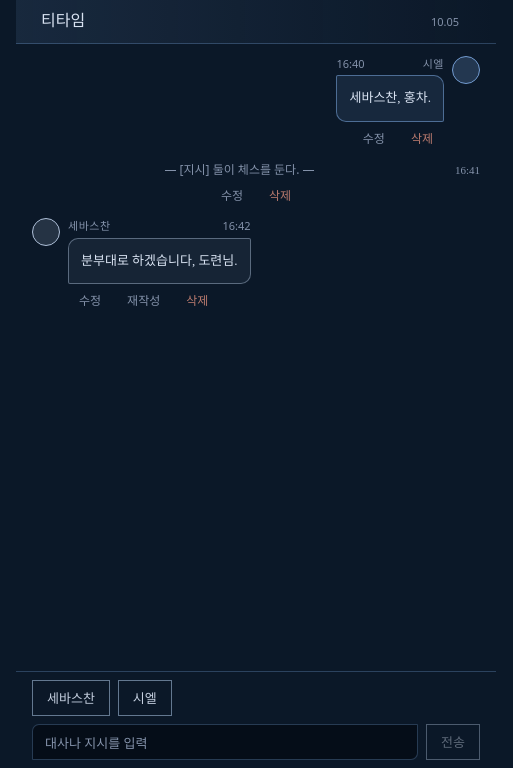
Test: 다른 쓰기 대기 중 생성 잠금 — 잠금 표 edit·delete·regenerate 행 (R-CHAT-005 · R-CHAT-007) › TC-CH-095: (a) 수정 저장 대기 중 → 캐릭터 버튼 2·「재시도」 disabled → 응답 뒤 활성
This screenshot has width=513, height=768.
Expected: the element named "대화 기록" is shown, x1=32 y1=56 x2=480 y2=316
Click the button with aria-label "시엘 대사 생성" at (145, 698), box x1=118 y1=680 x2=172 y2=716
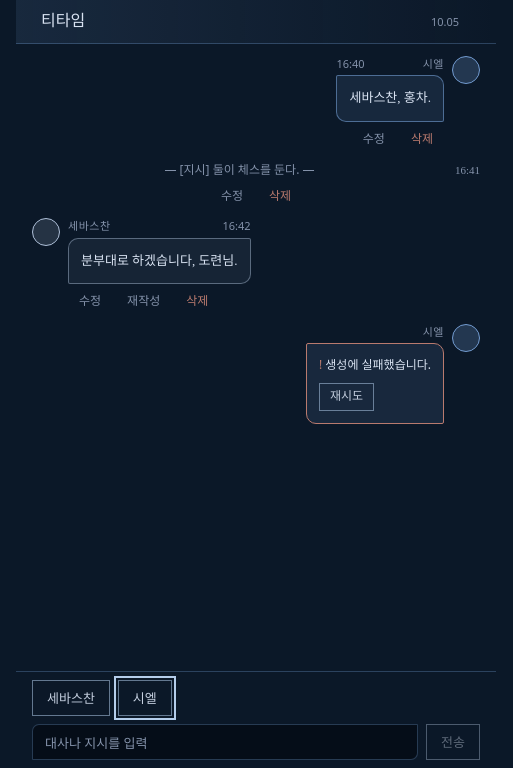
Expected: the button with aria-label "시엘 대사 재시도" is shown, x1=319 y1=383 x2=374 y2=411
Click the button with aria-label "세바스찬 대사 수정" at (90, 302), box x1=68 y1=288 x2=112 y2=316
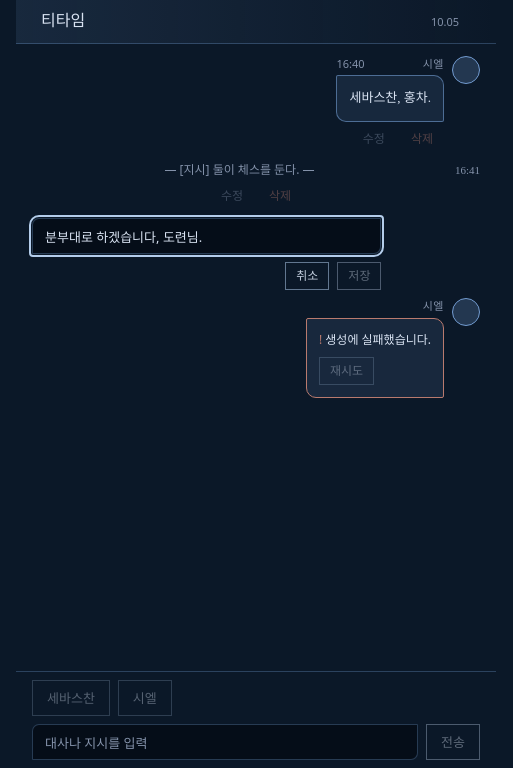
Replace the text in the text box named "수정할 내용" with "고친 대사" at (207, 236), box x1=32 y1=218 x2=381 y2=254
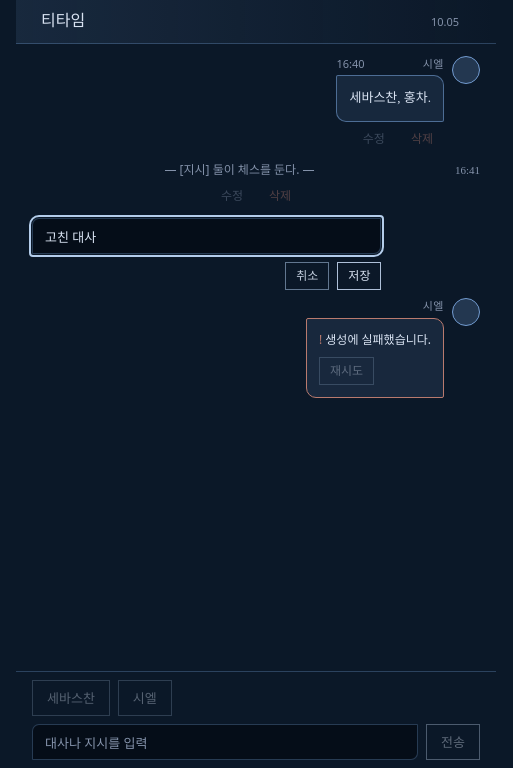
Click the button "저장" at (359, 276), box x1=337 y1=262 x2=381 y2=290
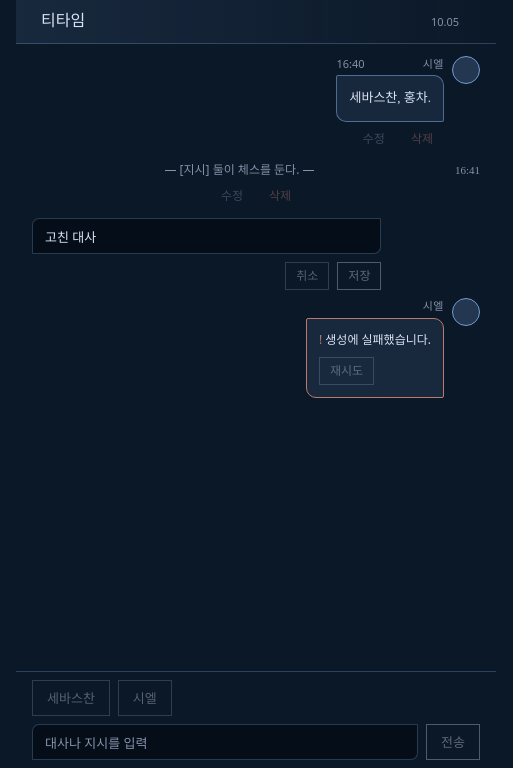
Expected: the button with aria-label "세바스찬 대사 생성" is disabled, x1=32 y1=680 x2=110 y2=716
Expected: the button with aria-label "시엘 대사 생성" is disabled, x1=118 y1=680 x2=172 y2=716
Expected: the button with aria-label "시엘 대사 재시도" is disabled
Click the button with aria-label "시엘 대사 재시도" at (346, 371), box x1=319 y1=357 x2=374 y2=385
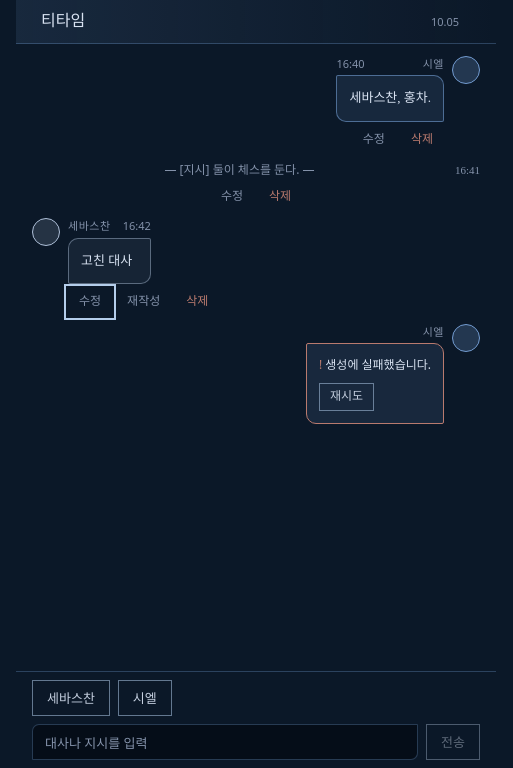
Expected: the button with aria-label "세바스찬 대사 생성" is enabled, x1=32 y1=680 x2=110 y2=716
Expected: the button with aria-label "시엘 대사 생성" is enabled, x1=118 y1=680 x2=172 y2=716
Expected: the button with aria-label "시엘 대사 재시도" is enabled, x1=319 y1=383 x2=374 y2=411
